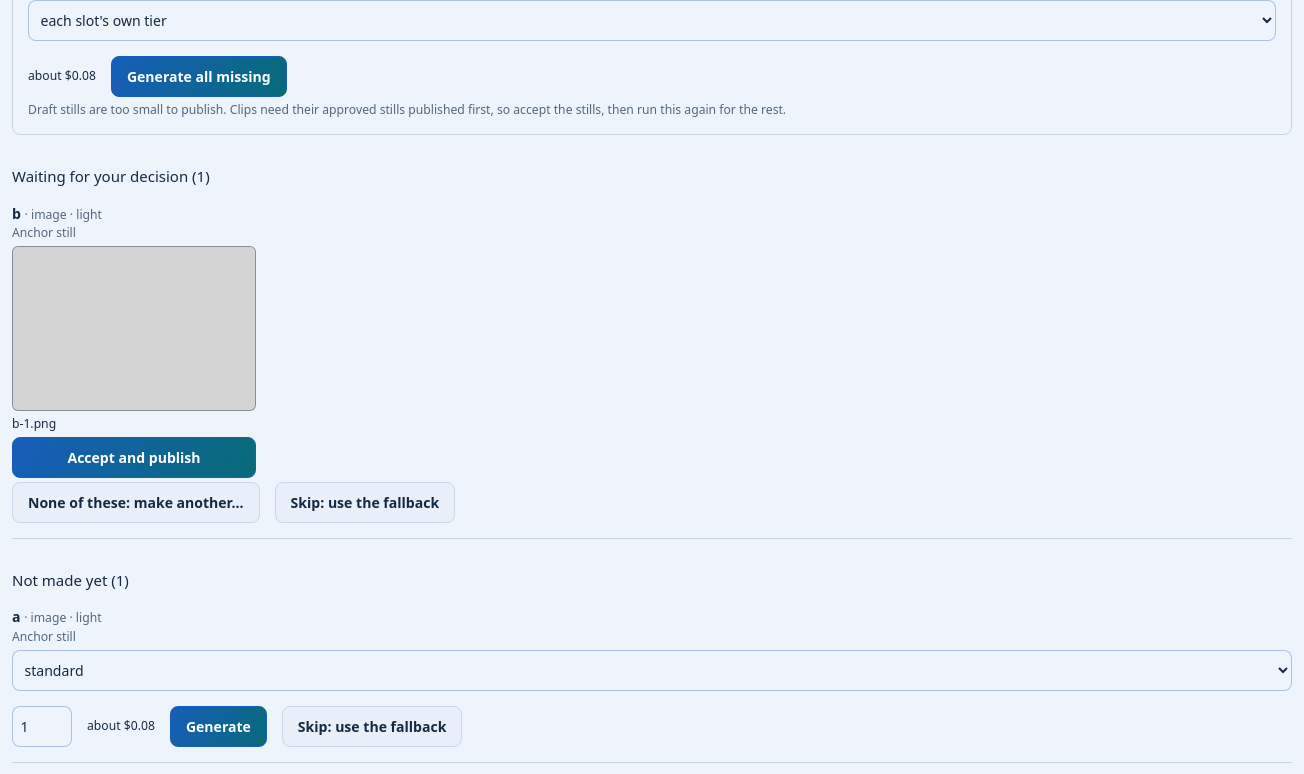
Test: records skip, restore and none-of-these as decisions, and the skipped slot leaves the work list
(page scrolled)
What coordinates should you click on to do the following:
click the button with aria-label "Skip a"
I would click on:
 (372, 727)
Its box is [282,706,462,747].
(page scrolled)
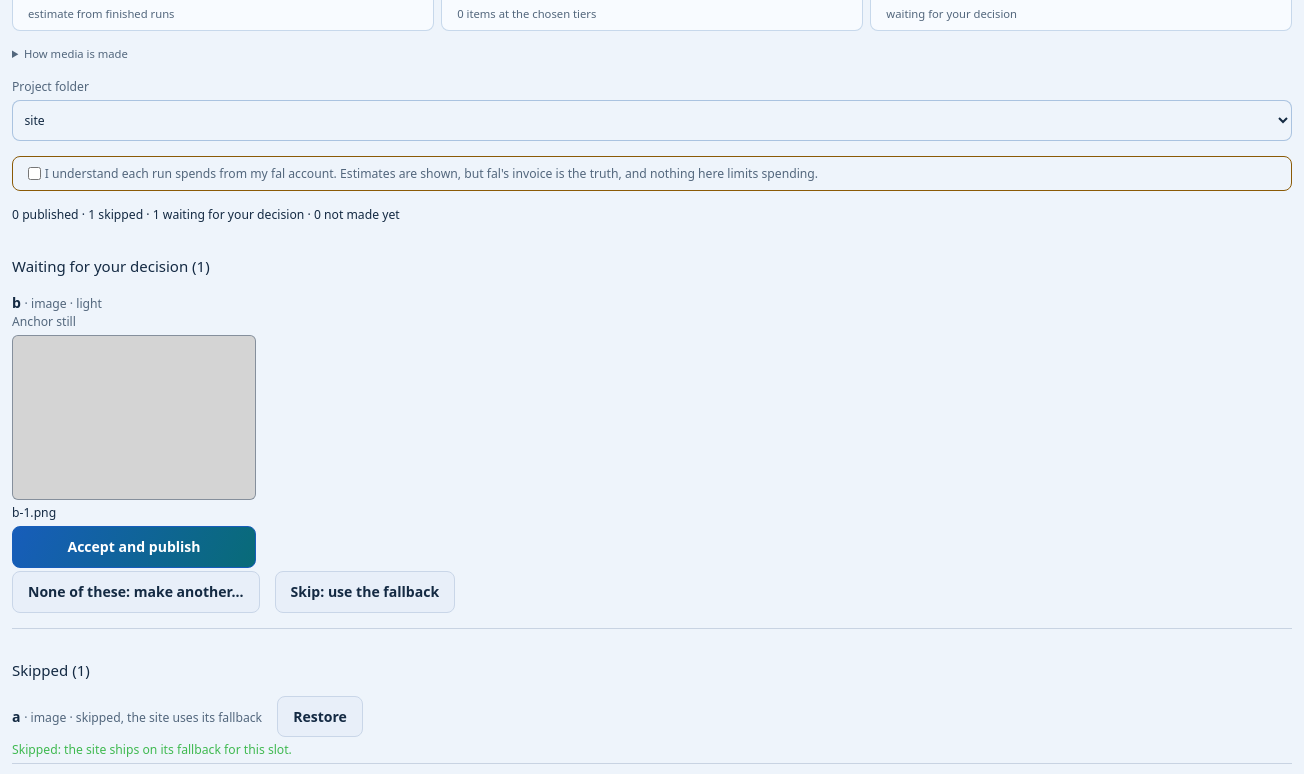
Expected: the message with test id "summary" shows "1 skipped", [12,206,400,223]
Expected: the text "skipped, the site uses its fallback" is shown, [24,709,262,726]
What coordinates should you click on to do the following:
click the button with aria-label "Restore a"
I would click on:
 (320, 717)
Its box is [277,696,363,737].
(page scrolled)
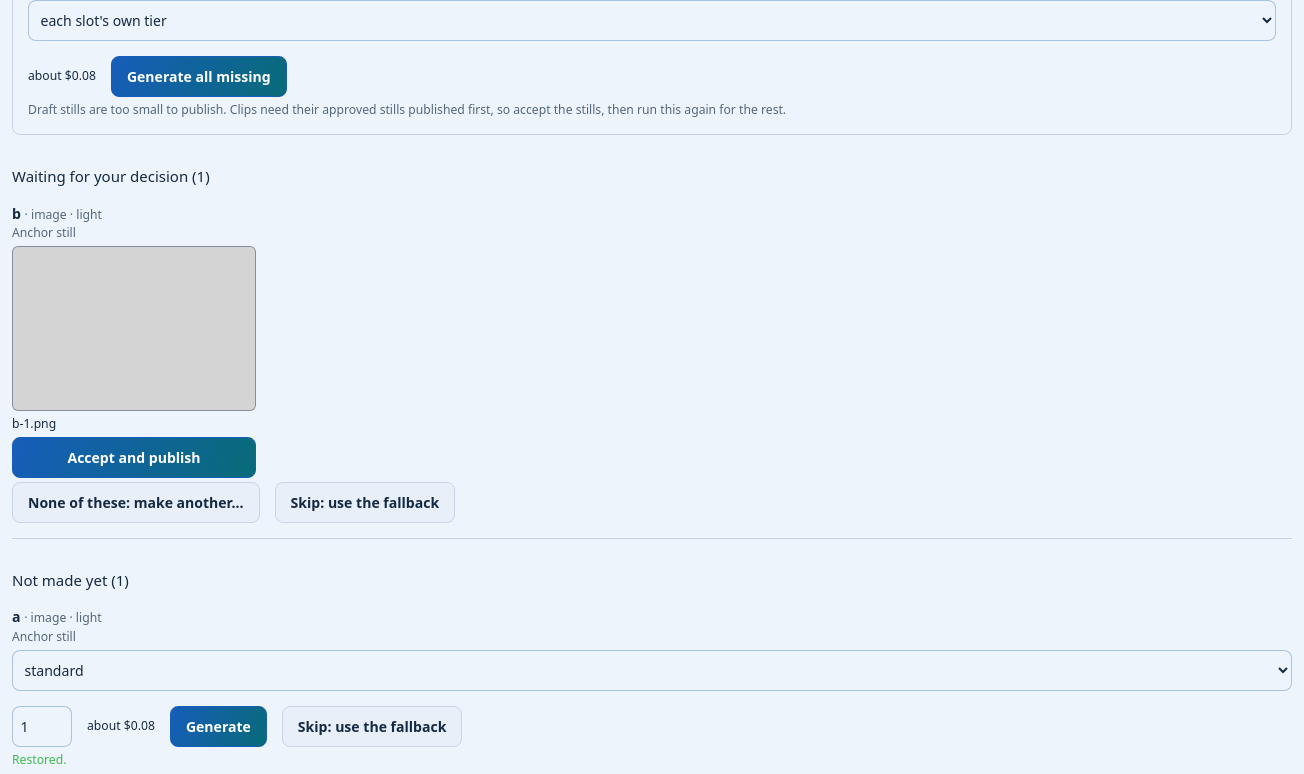
What coordinates should you click on to do the following:
click the button with aria-label "None of these for b"
I would click on:
 (136, 502)
Its box is [12,482,260,523].
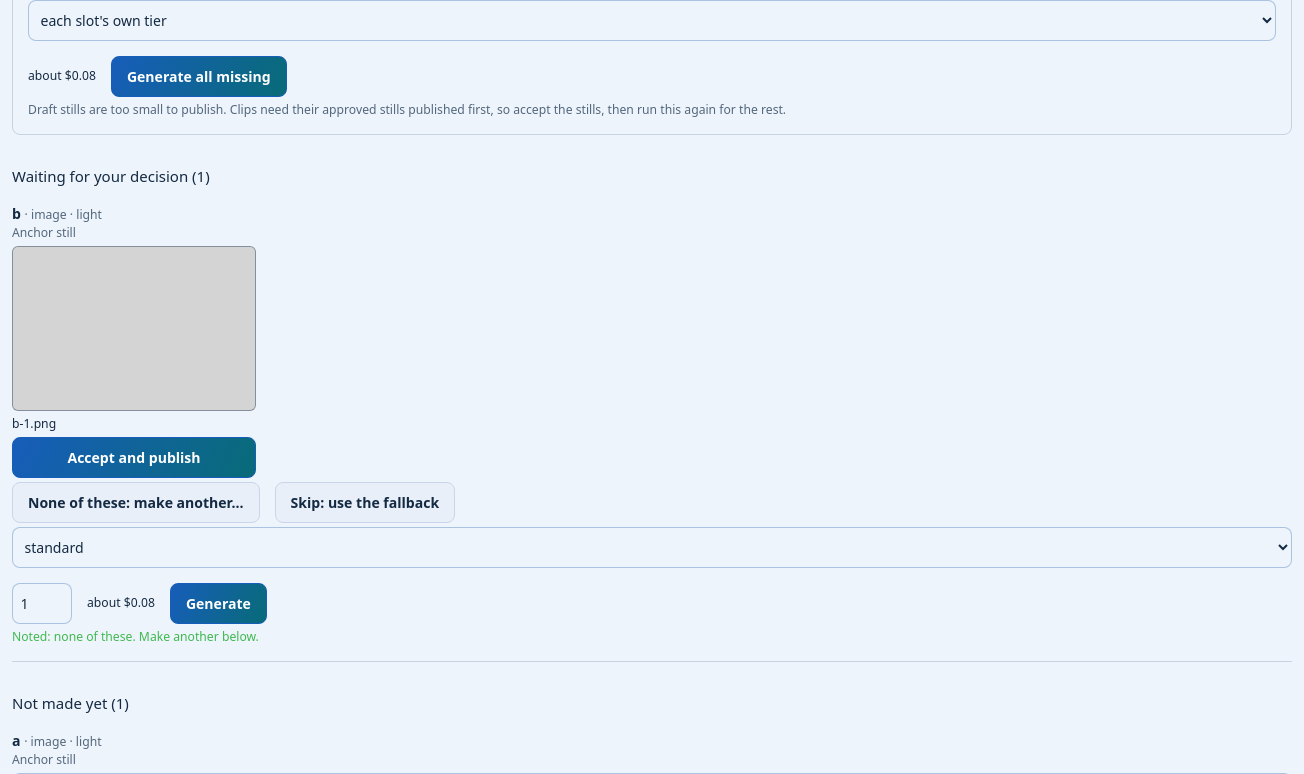
Expected: the element that starts with "· image" shows "Make another below", [12,628,259,645]
